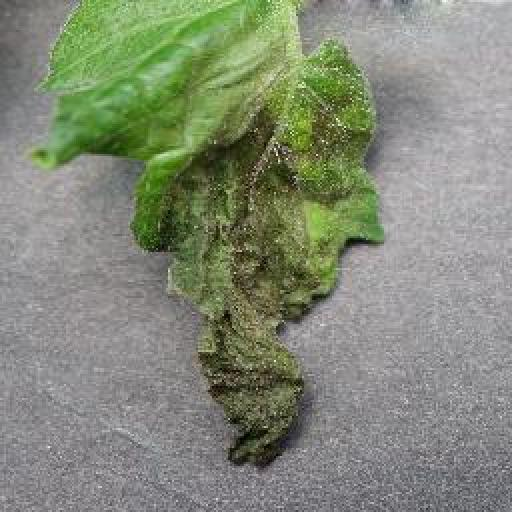Late Blight: (28, 0, 387, 471)
